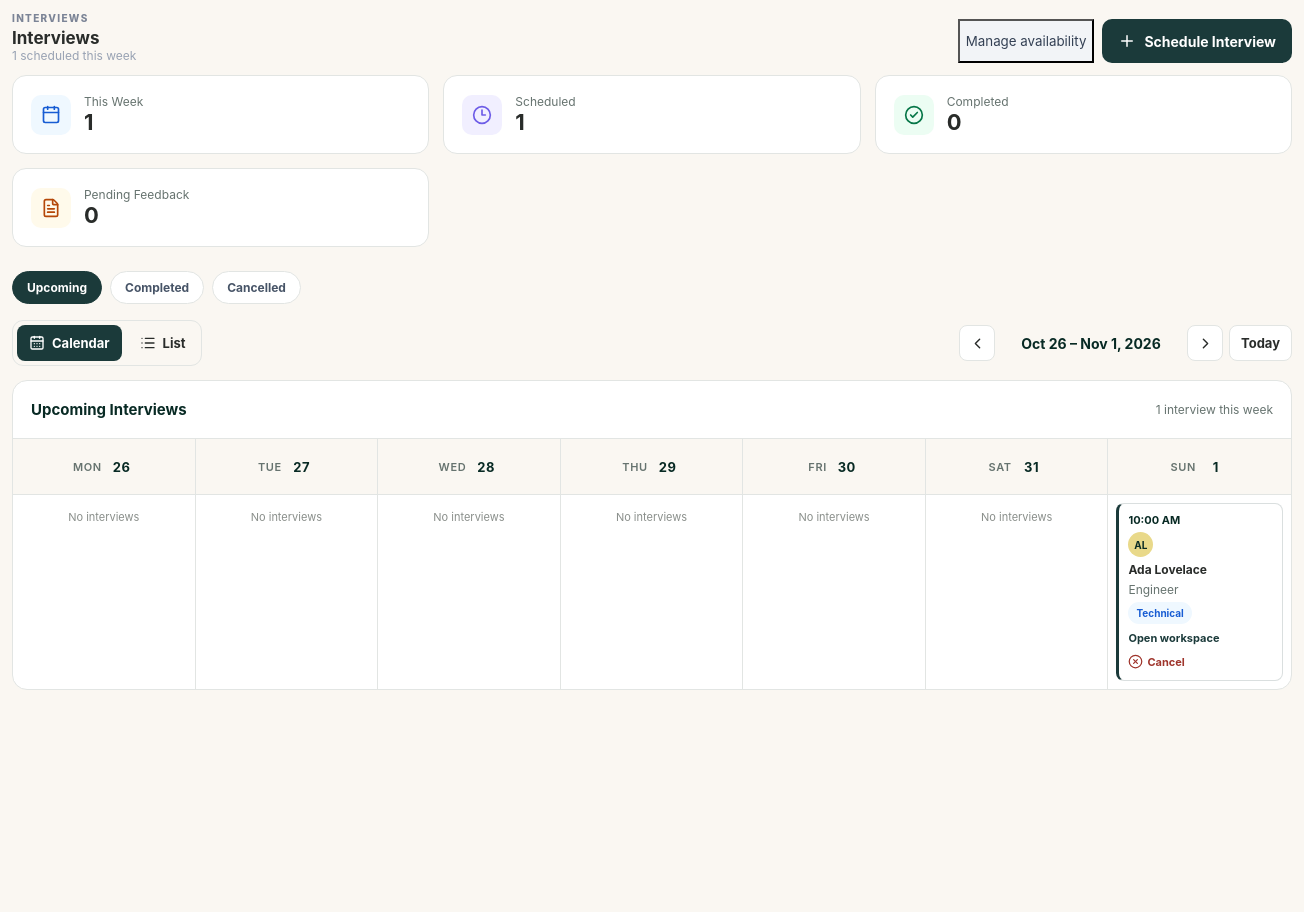
Test: Interviews empty states › distinguishes an empty status tab when interviews exist in another state
Click the button "Completed": (157, 288) [110,271,204,304]
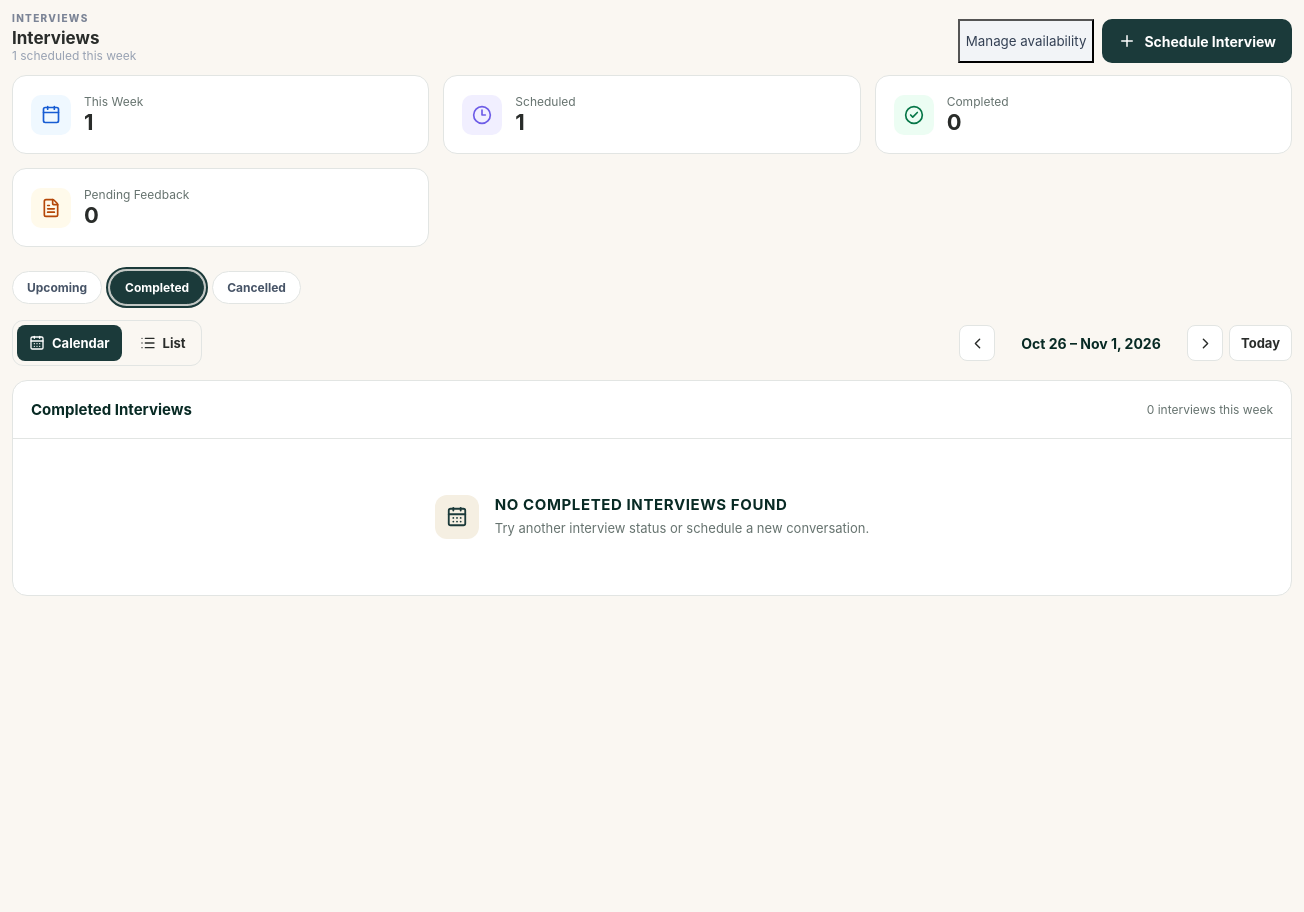
Expected: the heading "No completed interviews found" is shown, [495,495,788,514]
Expected: the text "Try another interview status or schedule a new conversation." is shown, [495,519,869,539]
